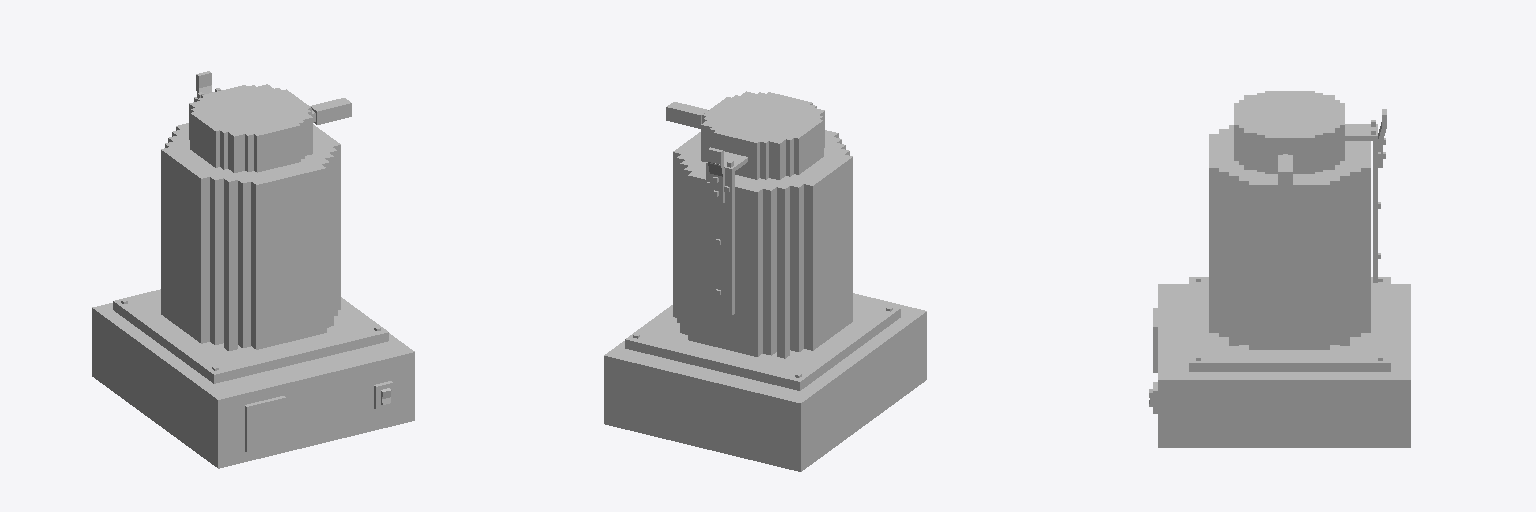
Rendered from ElectricCrucible.obj.
The picture shows the model from 3 angles: view 1: azimuth 30°, elevation 25°; view 2: azimuth 150°, elevation 25°; view 3: azimuth 270°, elevation 25°; orthographic projection.
Bounding box in the file's own units: 2.81 × 3.94 × 3.24.